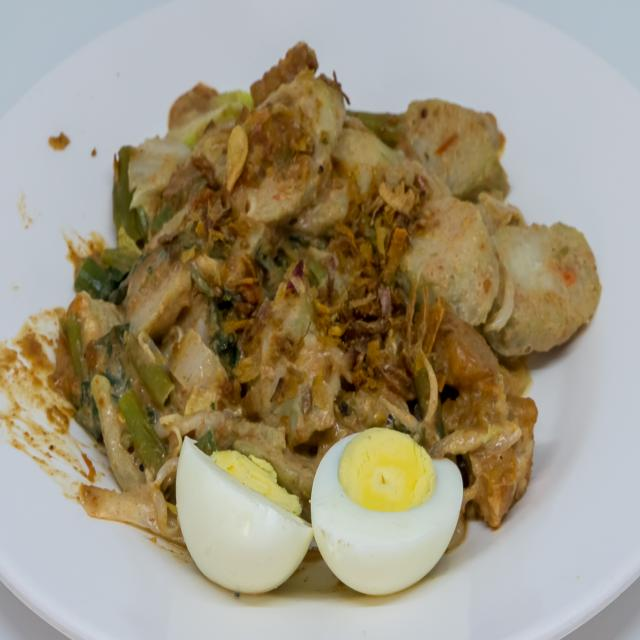Gado-Gado: (52, 26, 605, 618)
